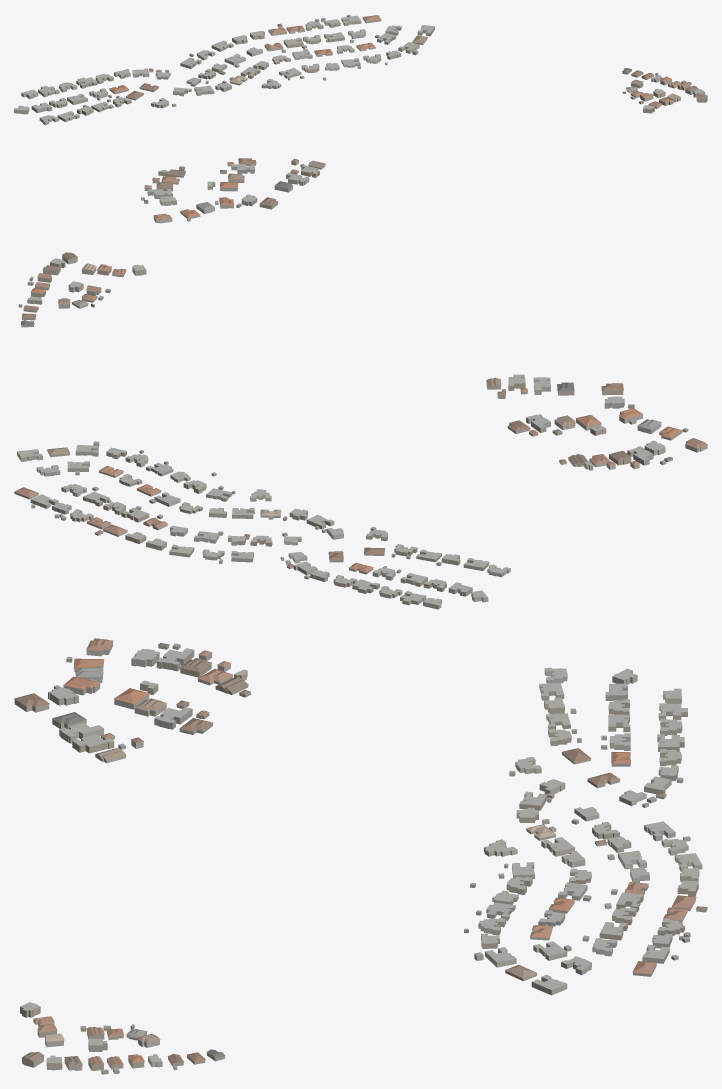
The model's file is buildings_r6_c4.glb.
3 views of the same model, one above another, from view 1: azimuth 30°, elevation 25°; view 2: azimuth 150°, elevation 25°; view 3: azimuth 270°, elevation 25° (orthographic). The views are drawn at different scales.
Visible parts, largest first — view 1: buildings_r6_c4; view 2: buildings_r6_c4; view 3: buildings_r6_c4.
Part boxes in pixels (x1,y1,x2,y2): buildings_r6_c4: (14,14,707,223); buildings_r6_c4: (14,252,707,609); buildings_r6_c4: (14,638,707,1074).
Size of the model in its own units: 1110 by 62.05 by 739.
